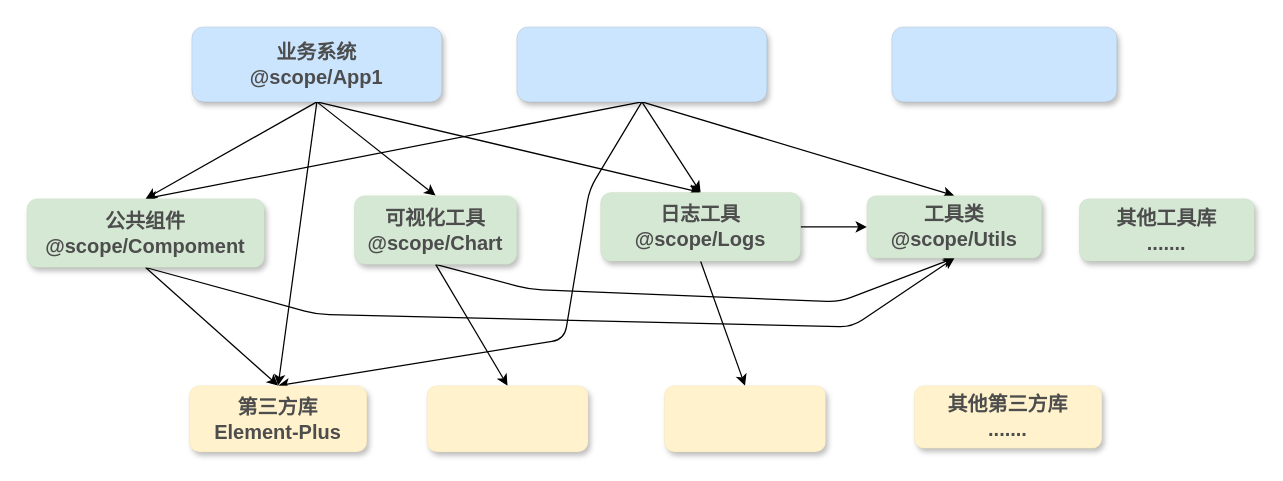
This 1283x481 diagram has some shape labels left out. Here are the shapes that lost their labels. From the top down, the centre of each, then its label:
At pixel 642 65: "业务系统 @scope/App2".
At pixel 1005 65: "其他业务系统 ........".
At pixel 508 420: "第三方库 ECharts".
At pixel 745 420: "第三方库 log4j".
